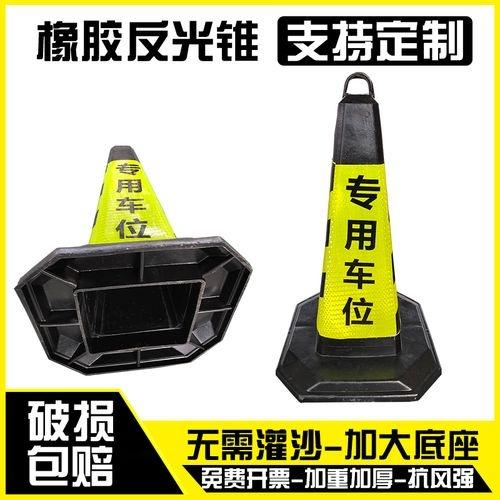cone_barrel: (282, 72, 429, 402), (81, 137, 183, 281)
